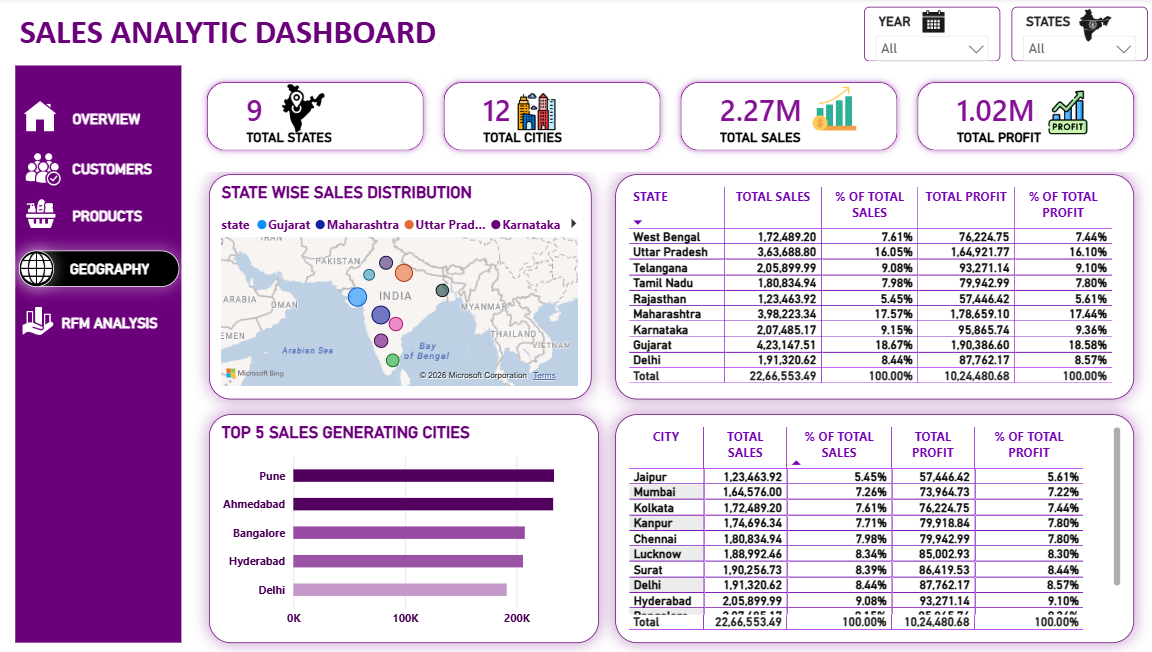

The page's visual inventory and layout, read from the dashboard file:
{"tool":"powerbi","page":{"name":"GEOGRAPHY","canvas":[1280,720],"ordinal":3},"visuals":[{"type":"textbox","box":[23.3,9.6,516,60.4],"z":0},{"type":"slicer","fields":{"Values":["amazon_db rfm_customers_segmentation.customer_type"]},"box":[1117,9.6,149.6,60.4],"z":1000},{"type":"slicer","fields":{"Values":["amazon_db merged_table.order_date.Variation.Date Hierarchy.Year"]},"box":[955.1,9.6,149.6,60.4],"z":2000},{"type":"image","box":[1018.2,11,26.1,30.2],"z":3000},{"type":"shape","box":[23.3,74.1,182.5,634],"z":4000},{"type":"actionButton","box":[64.5,112.5,100.2,39.8],"z":5000},{"type":"actionButton","box":[42.5,167.1,174.3,39.8],"z":6000},{"type":"actionButton","box":[74.1,219.6,100.2,39.8],"z":7000},{"type":"actionButton","box":[27.4,277.2,175.6,39.8],"z":8000},{"type":"image","box":[26.1,167.4,56.3,38.4],"z":9000},{"type":"image","box":[27.4,277.2,38.4,39.8],"z":10000},{"type":"image","box":[23.3,219.6,56.3,35.7],"z":11000},{"type":"image","box":[30.2,112.5,41.2,35.7],"z":12000},{"type":"actionButton","box":[70,336.2,113.9,39.8],"z":13000},{"type":"image","box":[27.4,336.2,41.2,37],"z":14000},{"type":"map","title":"STATE WISE SALES DISTRIBUTION","fields":{"Category":["amazon_db merged_table.state"],"Series":["amazon_db merged_table.state"],"Size":["Sum(amazon_db merged_table.sales)"]},"box":[236,193.5,419.9,247],"z":15000},{"type":"tableEx","fields":{"Values":["amazon_db merged_table.state","Sum(amazon_db merged_table.sales)","Divide(Sum(amazon_db merged_table.sales), ScopedEval(Sum(amazon_db merged_table.sales), []))","Sum(amazon_db merged_table.profit)","Divide(Sum(amazon_db merged_table.profit), ScopedEval(Sum(amazon_db merged_table.profit), []))"]},"box":[682,193.5,569.5,247],"z":16000},{"type":"cardVisual","fields":{"Data":["Count(amazon_db merged_table.state)","Count(amazon_db merged_table.city)","Sum(amazon_db merged_table.sales)","Sum(amazon_db merged_table.profit)"]},"box":[205.8,64.5,1074.4,131.7],"z":17000},{"type":"tableEx","fields":{"Values":["amazon_db merged_table.city","Sum(amazon_db merged_table.sales)","Divide(Sum(amazon_db merged_table.sales), ScopedEval(Sum(amazon_db merged_table.sales), []))","Sum(amazon_db merged_table.profit)","Divide(Sum(amazon_db merged_table.profit), ScopedEval(Sum(amazon_db merged_table.profit), []))"]},"box":[682,456.9,569.5,251.1],"z":18000},{"type":"barChart","title":"TOP 5 SALES GENERATING CITIES","fields":{"Y":["Sum(amazon_db merged_table.sales)"],"Category":["amazon_db merged_table.city"]},"box":[236,456.9,428.1,251.1],"z":19000},{"type":"image","box":[1191.1,9.6,35.7,41.2],"z":20000},{"type":"image","box":[890.6,97.4,64.5,48],"z":21000},{"type":"image","box":[300.5,94.7,76.8,53.5],"z":22000},{"type":"image","box":[551.6,104.3,87.8,41.2],"z":23000},{"type":"image","box":[1148.5,101.5,60.4,48],"z":24000}]}

Visuals, with their boxes in screenshot pixels (x1, y1, x2, y2), scaled from the page's 1280x720 canvas onto the 1152x652 screenshot:
textbox: (21,9,485,63)
slicer - amazon_db rfm_customers_segmentation.customer_type: (1005,9,1140,63)
slicer - amazon_db merged_table.order_date.Variation.Date Hierarchy.Year: (860,9,994,63)
image: (916,10,940,37)
shape: (21,67,185,641)
actionButton: (58,102,148,138)
actionButton: (38,151,195,187)
actionButton: (67,199,157,235)
actionButton: (25,251,183,287)
image: (23,152,74,186)
image: (25,251,59,287)
image: (21,199,72,231)
image: (27,102,64,134)
actionButton: (63,304,166,340)
image: (25,304,62,338)
"STATE WISE SALES DISTRIBUTION" map: (212,175,590,399)
tableEx - amazon_db merged_table.state x Sum(amazon_db merged_table.sales): (614,175,1126,399)
cardVisual - Count(amazon_db merged_table.state) x Count(amazon_db merged_table.city): (185,58,1151,178)
tableEx - amazon_db merged_table.city x Sum(amazon_db merged_table.sales): (614,414,1126,641)
"TOP 5 SALES GENERATING CITIES" barChart: (212,414,598,641)
image: (1072,9,1104,46)
image: (802,88,860,132)
image: (270,86,340,134)
image: (496,94,575,132)
image: (1034,92,1088,135)
